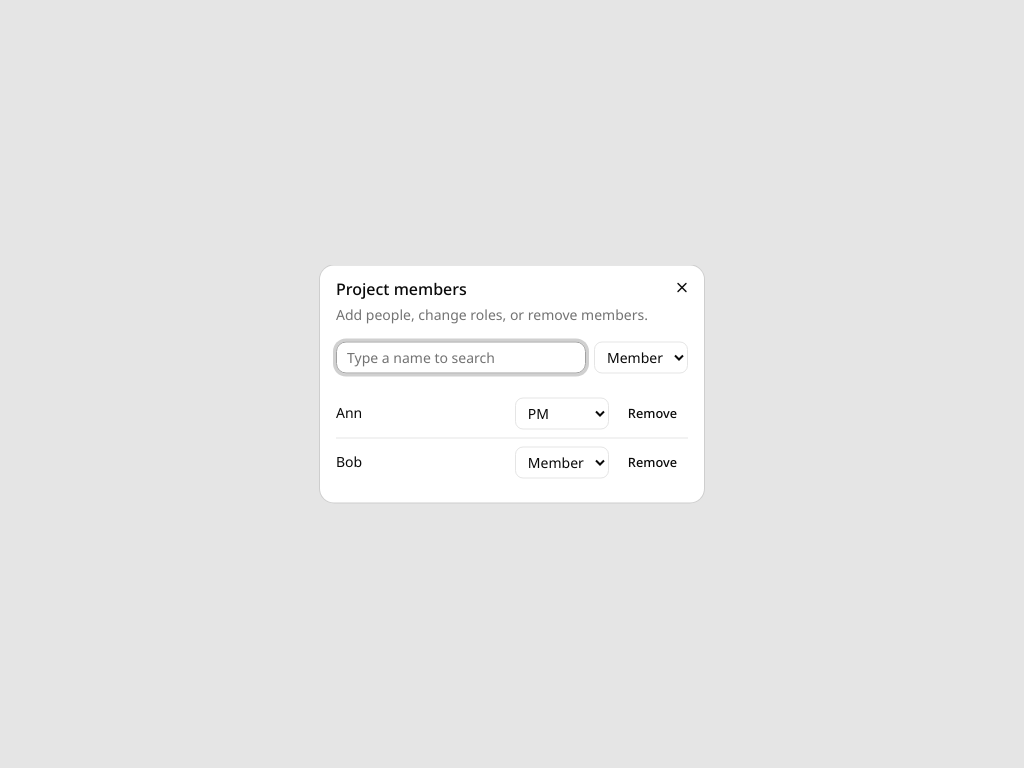
Test: MembersDialog › last PM conflict shows translated message
The width and height of the screenshot is (1024, 768).
Step 1. Select "Member" in the dropdown named "Role of Ann" → (562, 414), box x1=515 y1=398 x2=609 y2=430
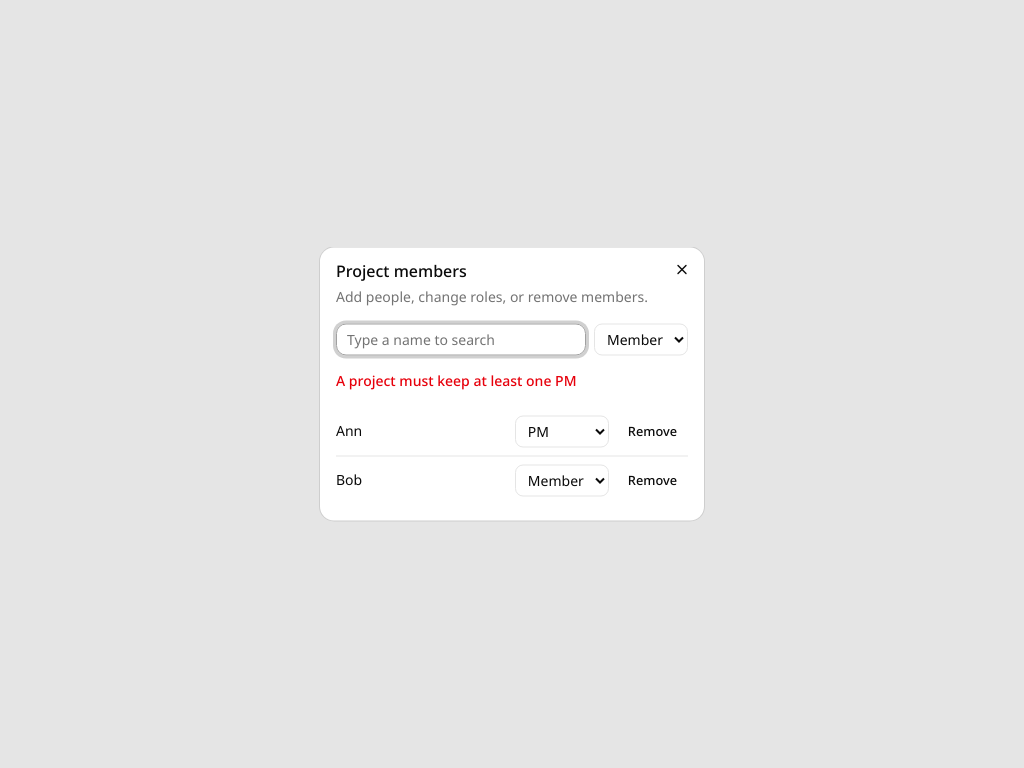
Expected: the message reads "A project must keep at least one PM", x1=336 y1=370 x2=576 y2=392
